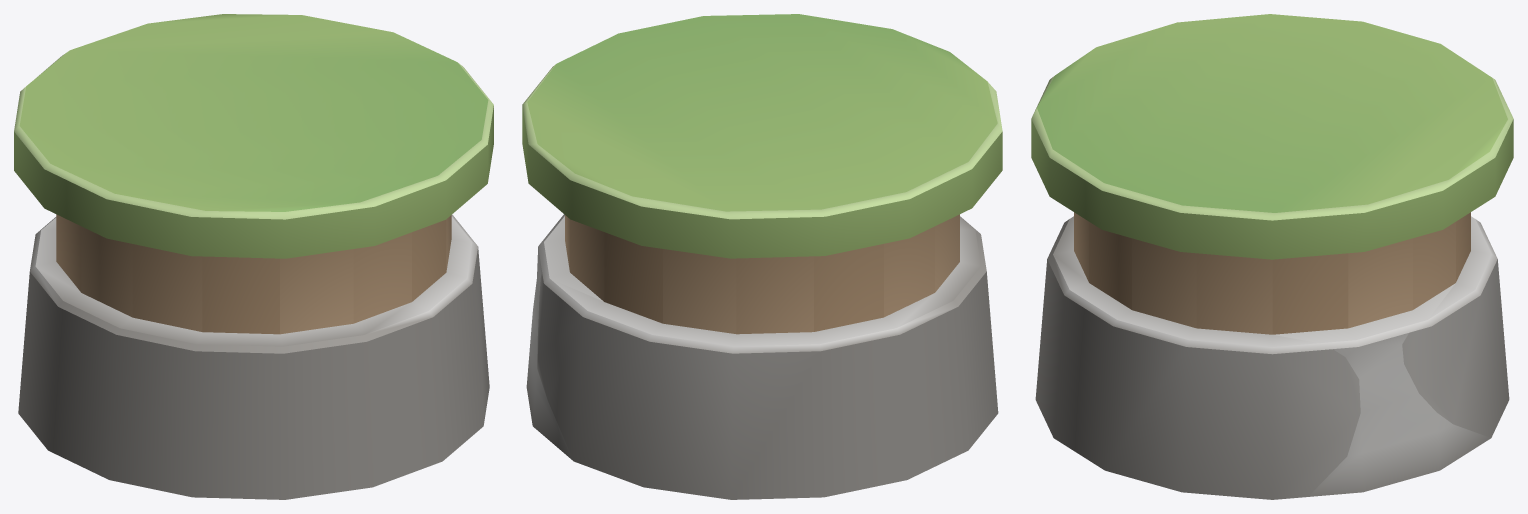
Rendered from ExchangeDesk.glb.
3 renders of one model, left to right at view 1: azimuth 30°, elevation 25°; view 2: azimuth 150°, elevation 25°; view 3: azimuth 270°, elevation 25°, orthographic.
Visible parts, largest first — view 1: ExchangeDesk; view 2: ExchangeDesk; view 3: ExchangeDesk.
Boxes of the visible parts, x1,y1,x2,y2 form: ExchangeDesk: (14, 14, 493, 499); ExchangeDesk: (522, 14, 1002, 499); ExchangeDesk: (1031, 14, 1513, 499).
Bounding box in the file's own units: 1.28 × 0.839 × 1.28.
